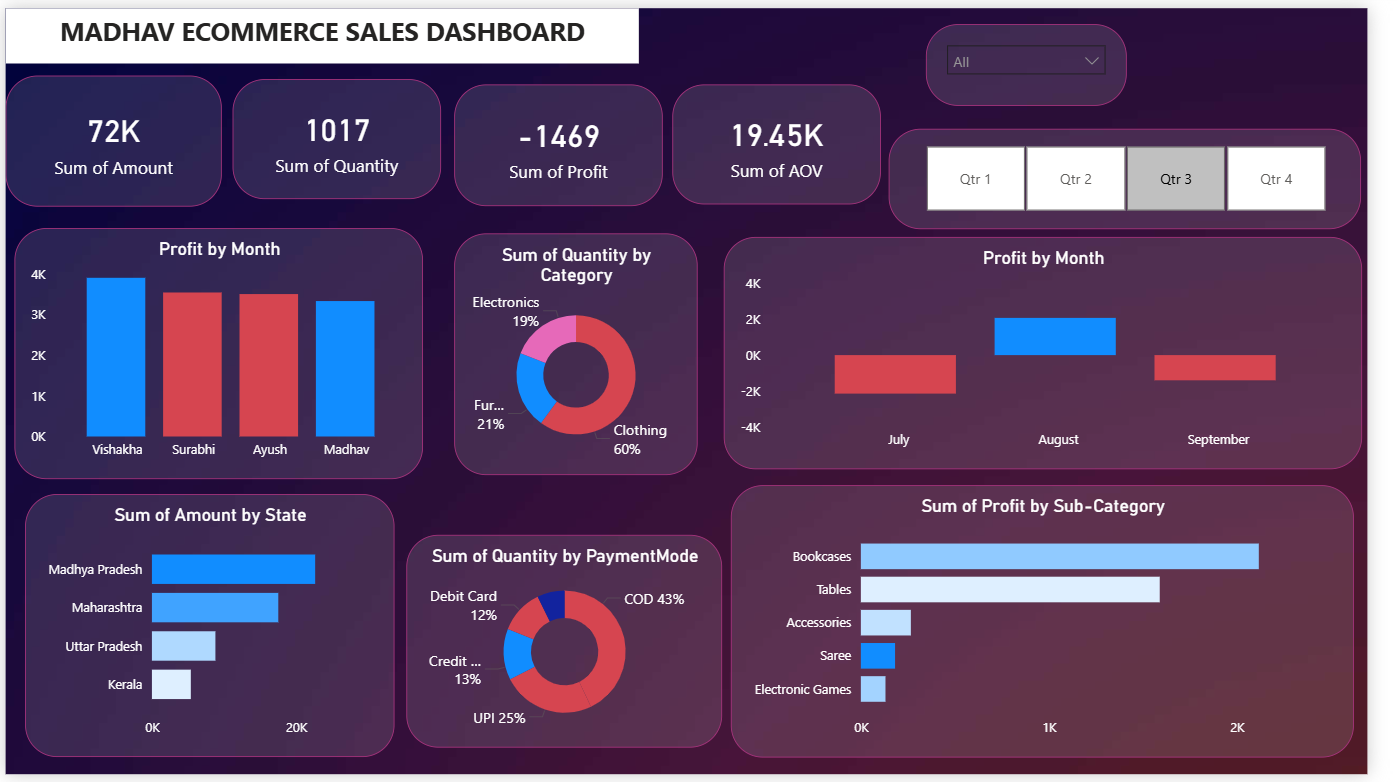

The page's visual inventory and layout, read from the dashboard file:
{"tool":"powerbi","page":{"name":"Page 1","canvas":[1280,720],"ordinal":0},"visuals":[{"type":"textbox","box":[0,0,595.5,52.1],"z":0},{"type":"clusteredColumnChart","title":"Profit by Month","fields":{"Category":["Orders.Order Date.Variation.Date Hierarchy.Month"],"Y":["Sum(Details.Profit)"]},"box":[674.3,215.7,600,218.6],"z":1000},{"type":"barChart","fields":{"Category":["Details.Sub-Category"],"Y":["Sum(Details.Profit)"]},"box":[681.4,448.6,585.7,255.7],"z":2000},{"type":"donutChart","fields":{"Category":["Details.Category"],"Y":["Sum(Details.Quantity)"]},"box":[421.4,211.4,228.6,227.1],"z":3000},{"type":"donutChart","fields":{"Y":["Sum(Details.Quantity)"],"Category":["Details.PaymentMode"]},"box":[377.1,495.7,297.1,200],"z":4000},{"type":"card","fields":{"Values":["Sum(Details.Amount)"]},"box":[0,62.9,202.9,122.9],"z":5000},{"type":"card","fields":{"Values":["Sum(Details.Quantity)"]},"box":[212.9,67.1,195.7,112.9],"z":6000},{"type":"card","fields":{"Values":["Sum(Details.Profit)"]},"box":[421.4,71.4,195.7,114.3],"z":7000},{"type":"card","fields":{"Values":["Sum(Details.AOV)"]},"box":[627.1,71.4,195.7,112.9],"z":8000},{"type":"barChart","fields":{"Category":["Orders.State"],"Y":["Sum(Details.Amount)"]},"box":[18.6,457.1,347.1,247.1],"z":9000},{"type":"clusteredColumnChart","title":"Profit by Month","fields":{"Category":["Orders.CustomerName"],"Y":["Sum(Details.Amount)"]},"box":[8.6,207.1,384.3,235.7],"z":10000},{"type":"slicer","fields":{"Values":["Orders.Order Date.Variation.Date Hierarchy.Quarter"]},"box":[830,112.9,444.3,94.3],"z":11000},{"type":"slicer","fields":{"Values":["Orders.State"]},"box":[864.3,14.3,188.6,77.1],"z":12000}]}

Visuals, with their boxes in screenshot pixels (x1, y1, x2, y2), scaled from the page's 1280x720 canvas onto the 1397x782 screenshot:
textbox: 0:0:650:57
"Profit by Month" clusteredColumnChart: 736:234:1391:472
barChart - Details.Sub-Category x Sum(Details.Profit): 744:487:1383:765
donutChart - Details.Category x Sum(Details.Quantity): 460:230:709:476
donutChart - Sum(Details.Quantity) x Details.PaymentMode: 412:538:736:756
card - Sum(Details.Amount): 0:68:221:202
card - Sum(Details.Quantity): 232:73:446:195
card - Sum(Details.Profit): 460:78:674:202
card - Sum(Details.AOV): 684:78:898:200
barChart - Orders.State x Sum(Details.Amount): 20:496:399:765
"Profit by Month" clusteredColumnChart: 9:225:429:481
slicer - Orders.Order Date.Variation.Date Hierarchy.Quarter: 906:123:1391:225
slicer - Orders.State: 943:16:1149:99
